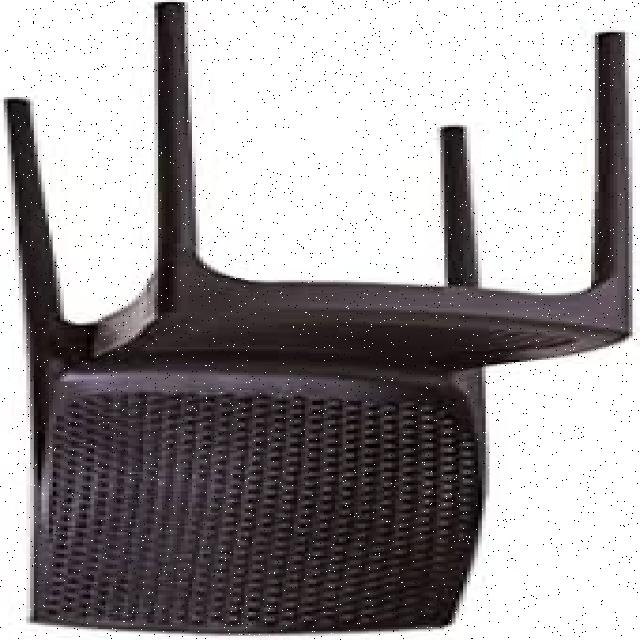bottle: (1, 0, 629, 632)
